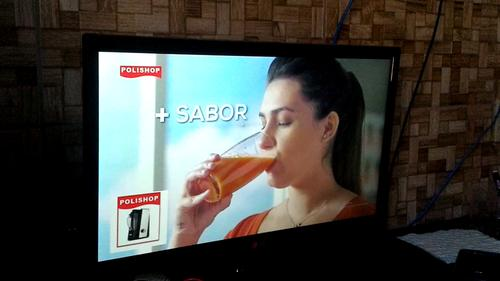Polishop #1: (109, 188, 169, 253)
